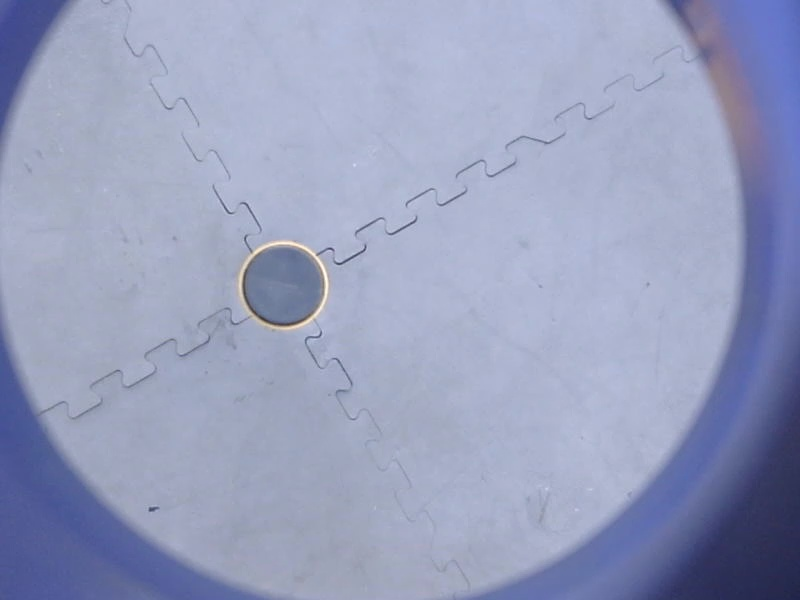tip: (234, 236, 333, 336)
